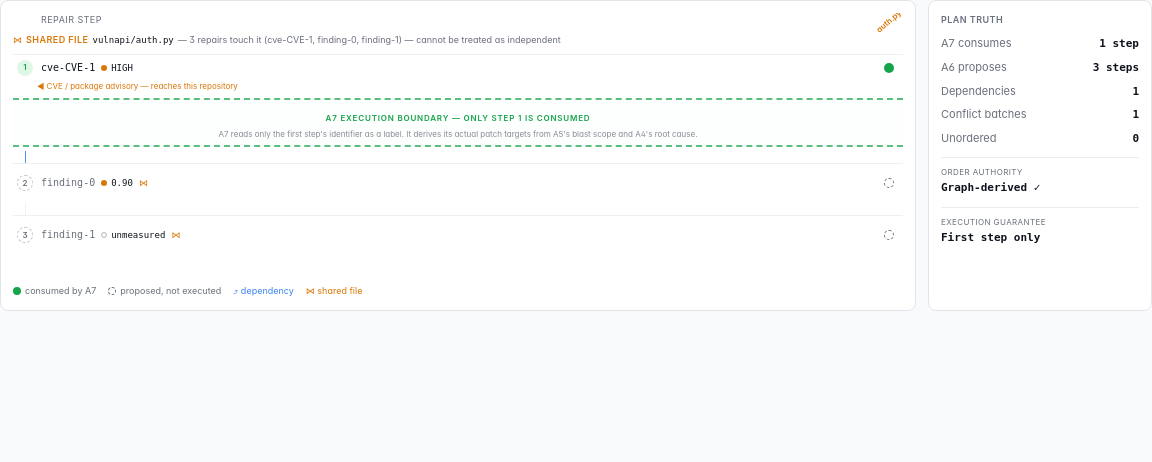
Test: RepairImpactMap — multi-step spine (case 2) › shows the handoff step's real acceptance criteria and patch constraints on expand
Click the text "cve-CVE-1": (68, 68) [41,60,95,76]
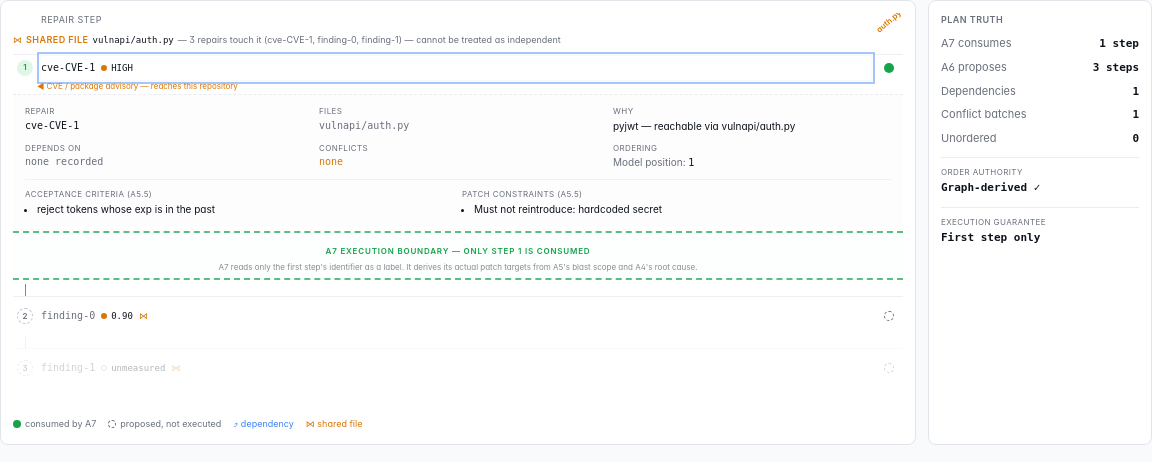
expect the list item "reject tokens whose exp is in the past" is shown: met, box [37,203,215,215]
expect the list item "Must not reintroduce: hardcoded secret" is shown: met, box [474,203,662,215]
